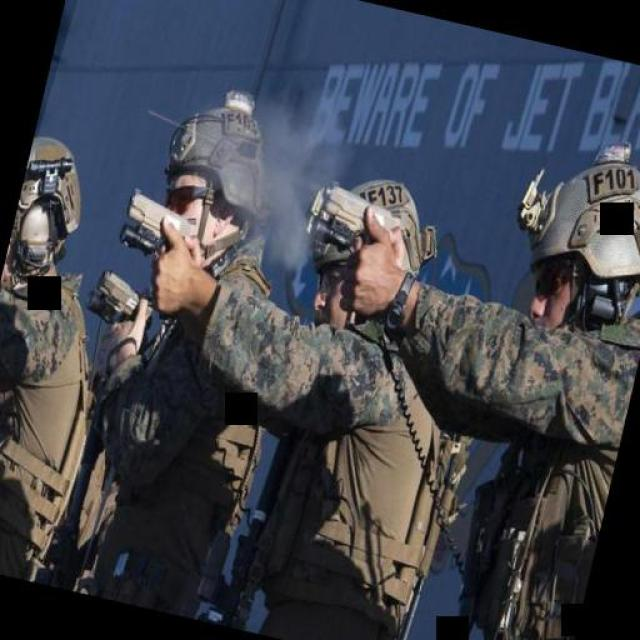gun: (286, 172, 412, 300), (114, 183, 202, 275), (80, 258, 160, 340)
